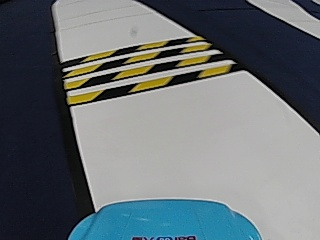bump: (73, 40, 198, 102)
